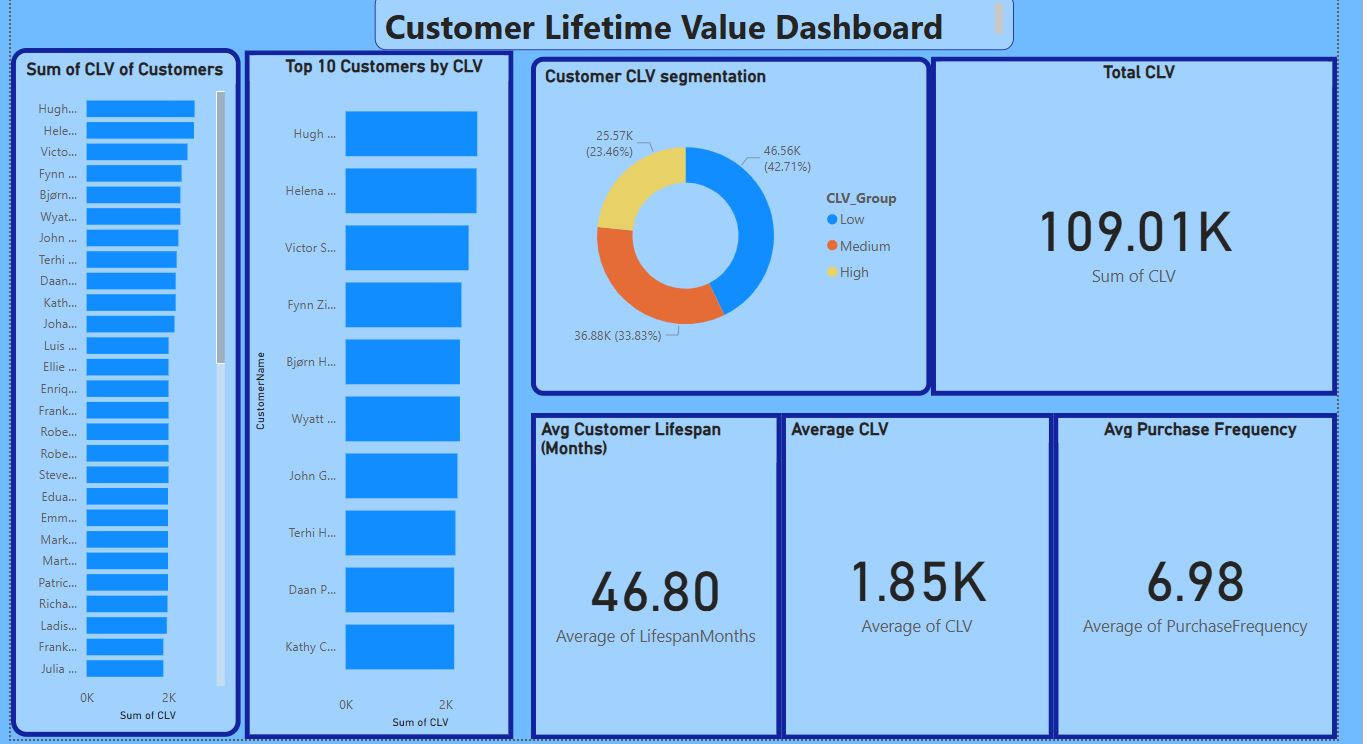

What the dashboard file says about the page in this screenshot:
{"tool":"powerbi","page":{"name":"Page 5","canvas":[1280,720],"ordinal":4},"visuals":[{"type":"clusteredBarChart","title":" Sum of CLV of Customers","fields":{"Y":["Sum(Customer_CLV.CLV)"],"Category":["Customer_CLV.CustomerName"]},"box":[0,375.6,222.2,321.1],"z":0},{"type":"textbox","box":[351.1,0,616.7,47.8],"z":1000},{"type":"card","title":"Total CLV","fields":{"Values":["Sum(Customer_CLV.CLV)"]},"box":[0,55.6,222.2,280],"z":2000},{"type":"card","title":"Total Customers","fields":{"Values":["Count(Customer_CLV.CustomerId)"]},"box":[236.7,55.6,230,280],"z":3000},{"type":"card","title":"Avg Purchase Frequency","fields":{"Values":["Avg(Customer_CLV.PurchaseFrequency)"]},"box":[722.2,55.6,206.7,280],"z":4000},{"type":"card","title":" Average CLV","fields":{"Values":["Avg(Customer_CLV.CLV)"]},"box":[484.4,55.6,220,280],"z":5000},{"type":"card","title":"Avg Customer Lifespan (Months)","fields":{"Values":["Avg(Customer_CLV.LifespanMonths)"]},"box":[944.4,55.6,223.3,280],"z":6000},{"type":"clusteredBarChart","title":"Top 10 Customers by CLV","fields":{"Y":["Sum(top_10_clv_customers.CLV)"],"Category":["top_10_clv_customers.CustomerName"]},"box":[246.7,376.7,258.9,321.1],"z":7000},{"type":"card","title":"Life span by months of customers","fields":{"Values":["Sum(top_10_clv_customers.LifespanMonths)"]},"box":[535.6,376.7,297.8,131.1],"z":8000},{"type":"textbox","box":[535.6,515.6,632.2,181.1],"z":9000},{"type":"donutChart","title":" Customer CLV segmentation","fields":{"Category":["customers_with_clv_group.CLV_Group"],"Y":["Sum(customers_with_clv_group.CLV)"]},"box":[852.2,375.6,315.6,132.2],"z":10000}]}

Visuals, with their boxes on the page's 1280x720 design canvas (x1, y1, x2, y2). These are canvas units, not pixel positions in the 1367x744 screenshot, which may show the page scaled, cropped or inside an application window:
" Sum of CLV of Customers" clusteredBarChart: left=0, top=376, right=222, bottom=697
textbox: left=351, top=0, right=968, bottom=48
"Total CLV" card: left=0, top=56, right=222, bottom=336
"Total Customers" card: left=237, top=56, right=467, bottom=336
"Avg Purchase Frequency" card: left=722, top=56, right=929, bottom=336
" Average CLV" card: left=484, top=56, right=704, bottom=336
"Avg Customer Lifespan (Months)" card: left=944, top=56, right=1168, bottom=336
"Top 10 Customers by CLV" clusteredBarChart: left=247, top=377, right=506, bottom=698
"Life span by months of customers" card: left=536, top=377, right=833, bottom=508
textbox: left=536, top=516, right=1168, bottom=697
" Customer CLV segmentation" donutChart: left=852, top=376, right=1168, bottom=508
